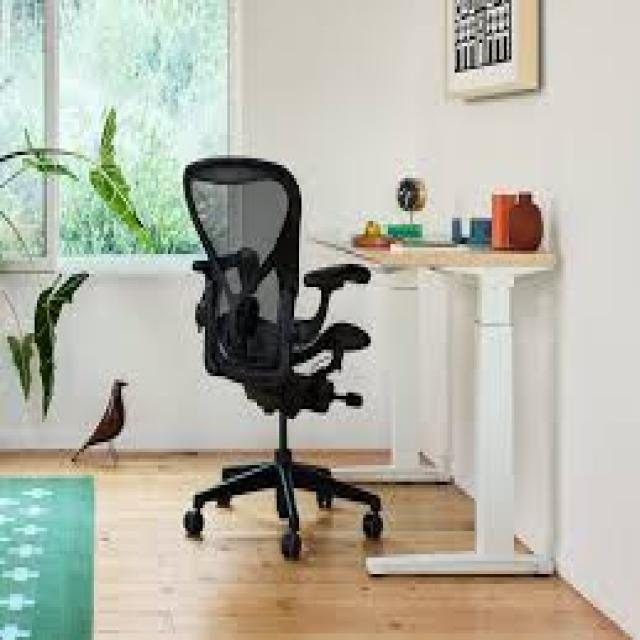chair: (124, 114, 404, 625)
